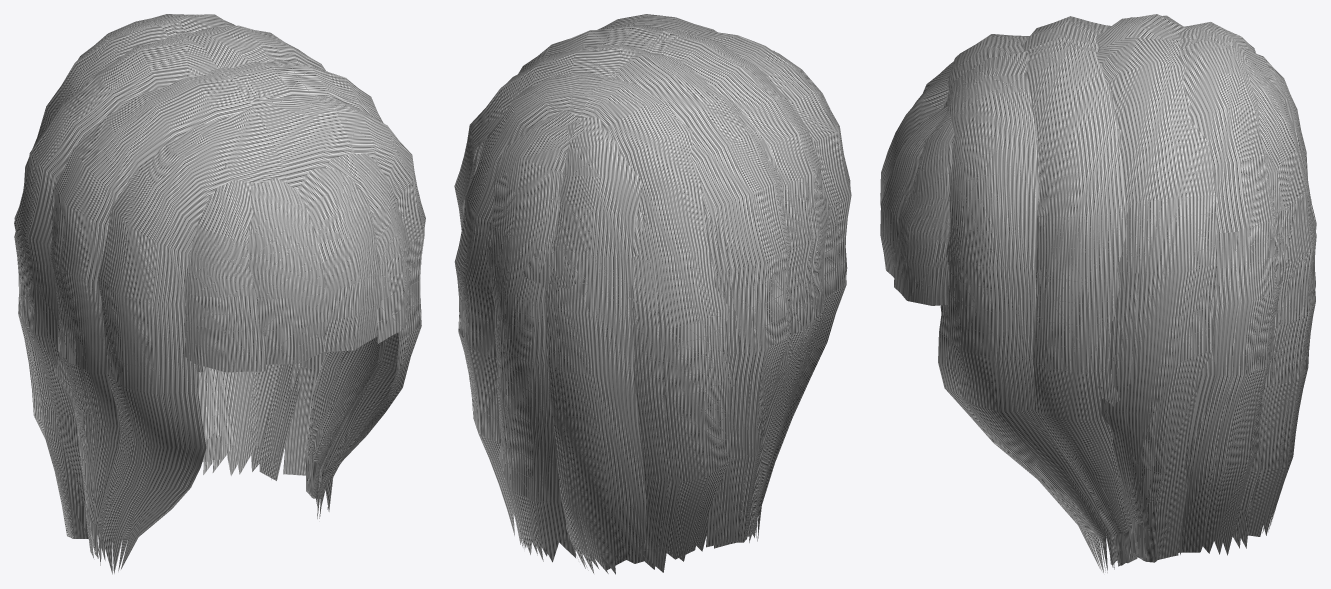
File: daz_hair_hime.glb
3 renders of one model, left to right at view 1: azimuth 30°, elevation 25°; view 2: azimuth 150°, elevation 25°; view 3: azimuth 270°, elevation 25°, orthographic. The views are drawn at different scales.
Visible parts, largest first — view 1: daz_hair_hime; view 2: daz_hair_hime; view 3: daz_hair_hime.
Boxes of the visible parts, x1=… form: daz_hair_hime: x1=14, y1=14, x2=425, y2=574; daz_hair_hime: x1=454, y1=14, x2=851, y2=574; daz_hair_hime: x1=880, y1=14, x2=1316, y2=572.
Size of the model in its own units: 0.1771 by 0.2539 by 0.2027.
1 material, 1 textured.
